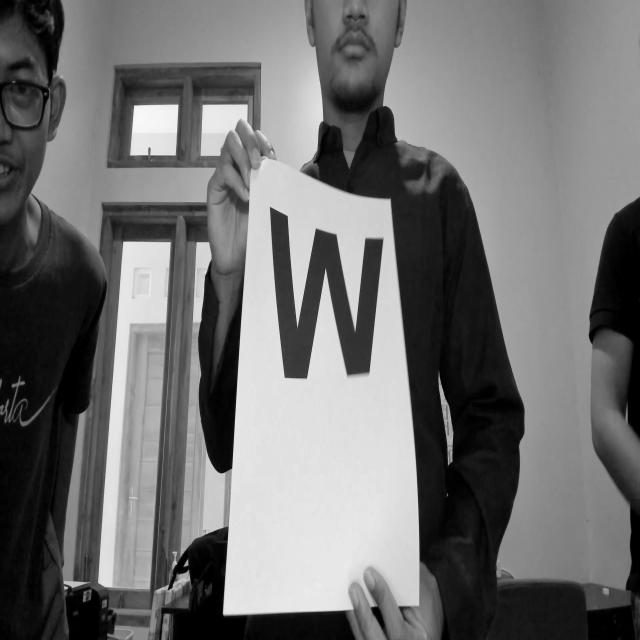w: (260, 194, 390, 405)
